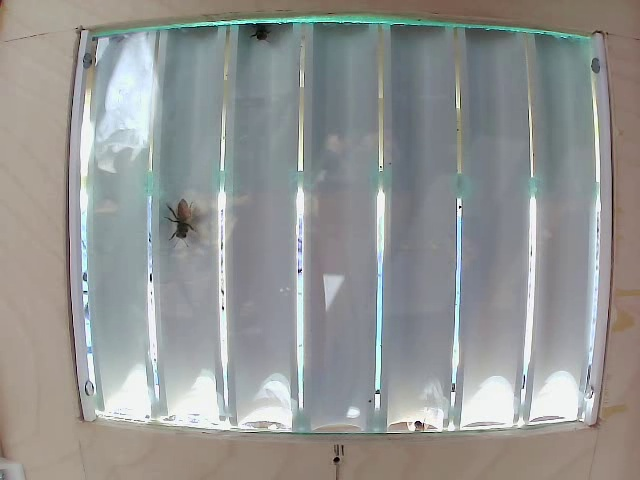bee: (167, 194, 203, 250)
